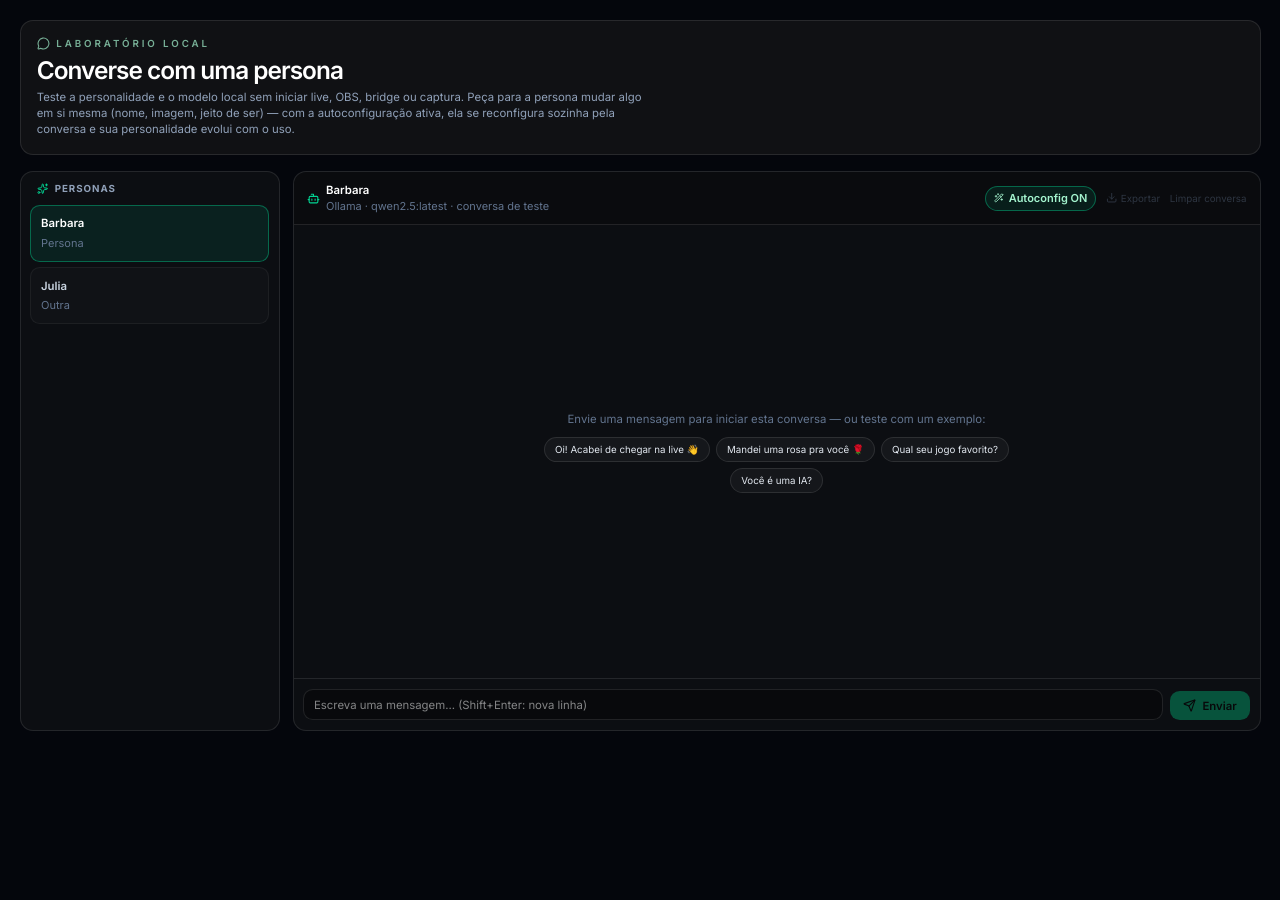
Test: PersonaChatLab › envia com Enter, mostra a resposta e guarda a conversa
The image size is (1280, 900).
Check: the button "Barbara Persona" is shown, box 30,204 -> 269,262
Type "oi" into the text box named "Mensagem para a persona" at point(733, 705), box 303,689 -> 1164,720
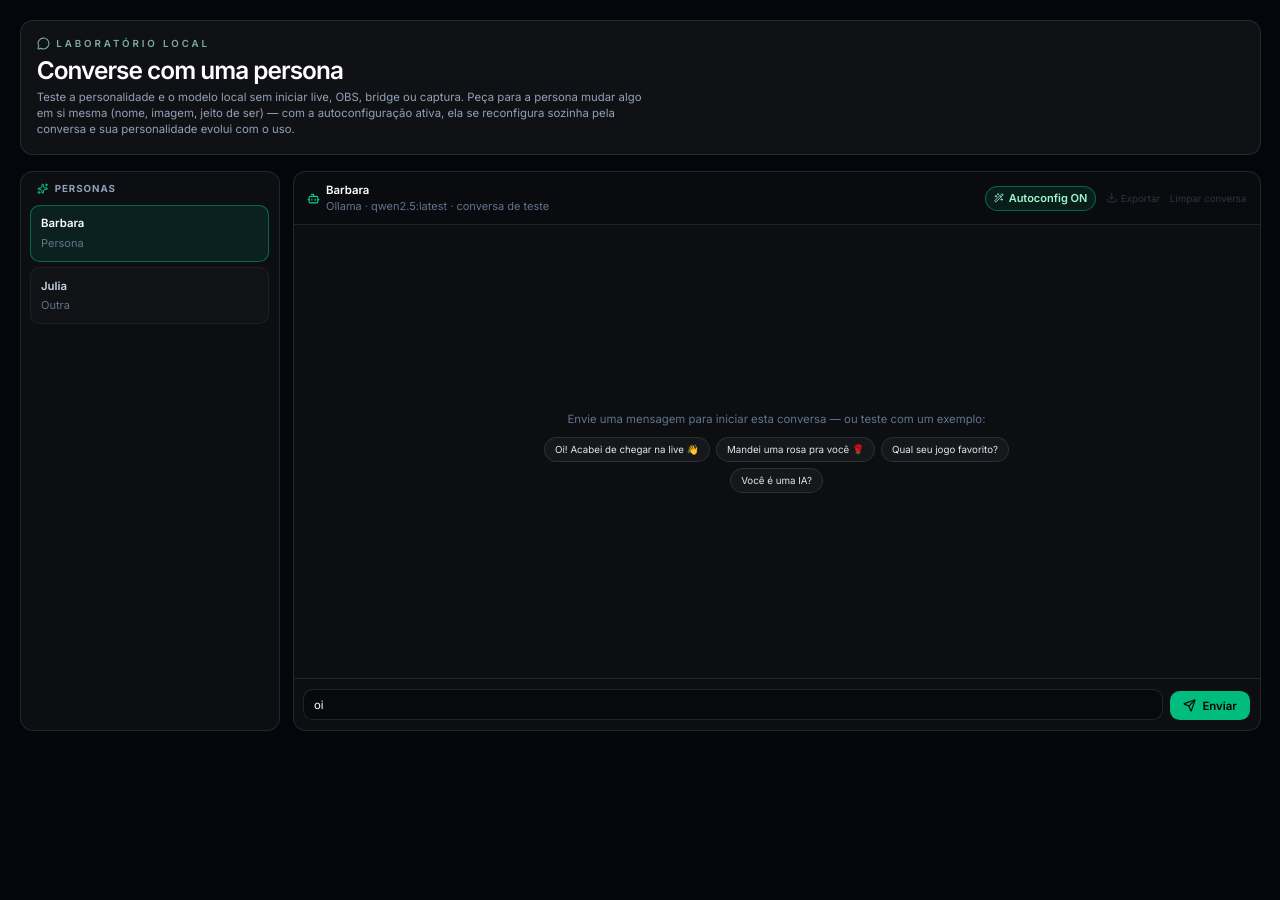
Press Enter in the text box named "Mensagem para a persona", box 303,689 -> 1164,720
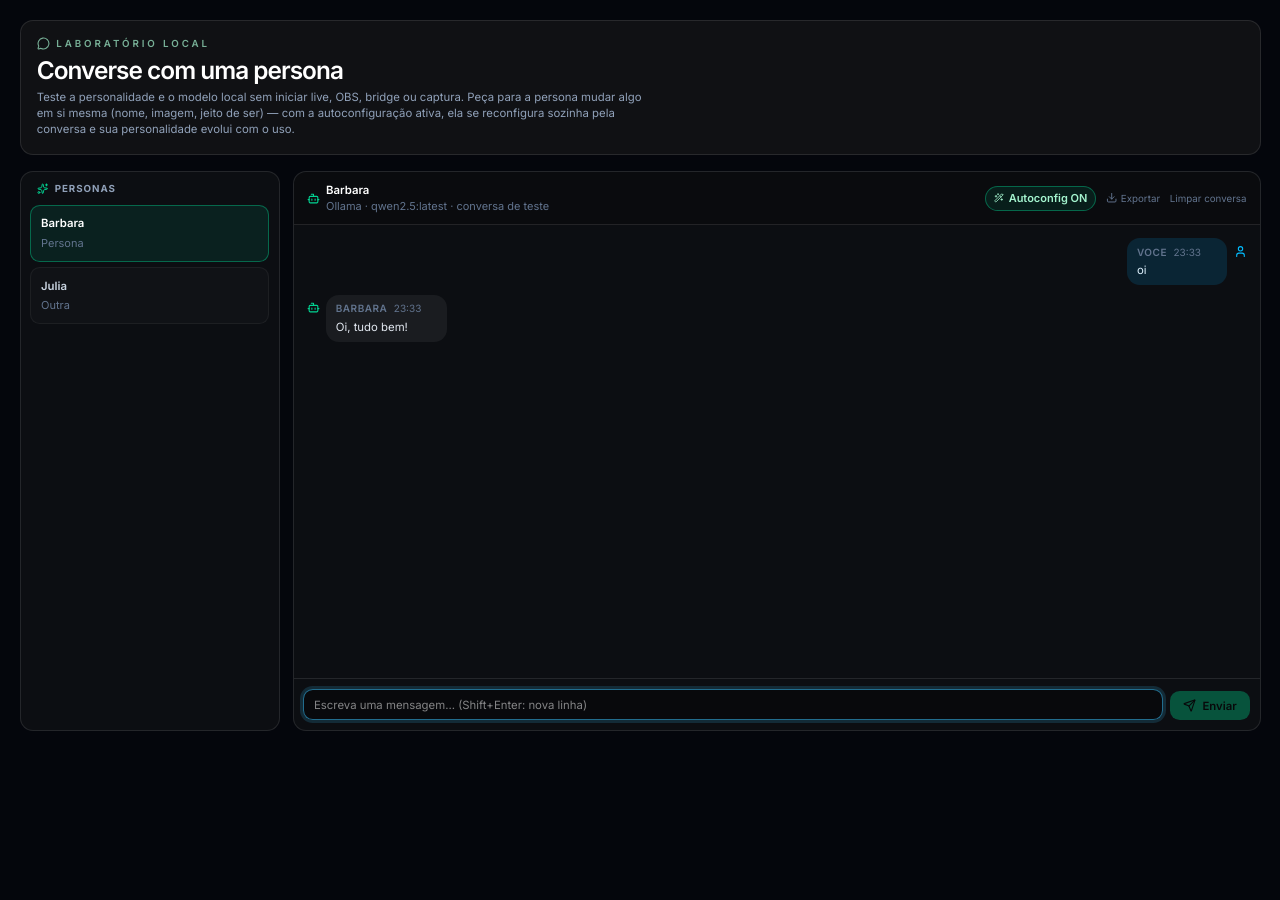
Check: the text "Oi, tudo bem!" is shown, box 336,320 -> 408,334
